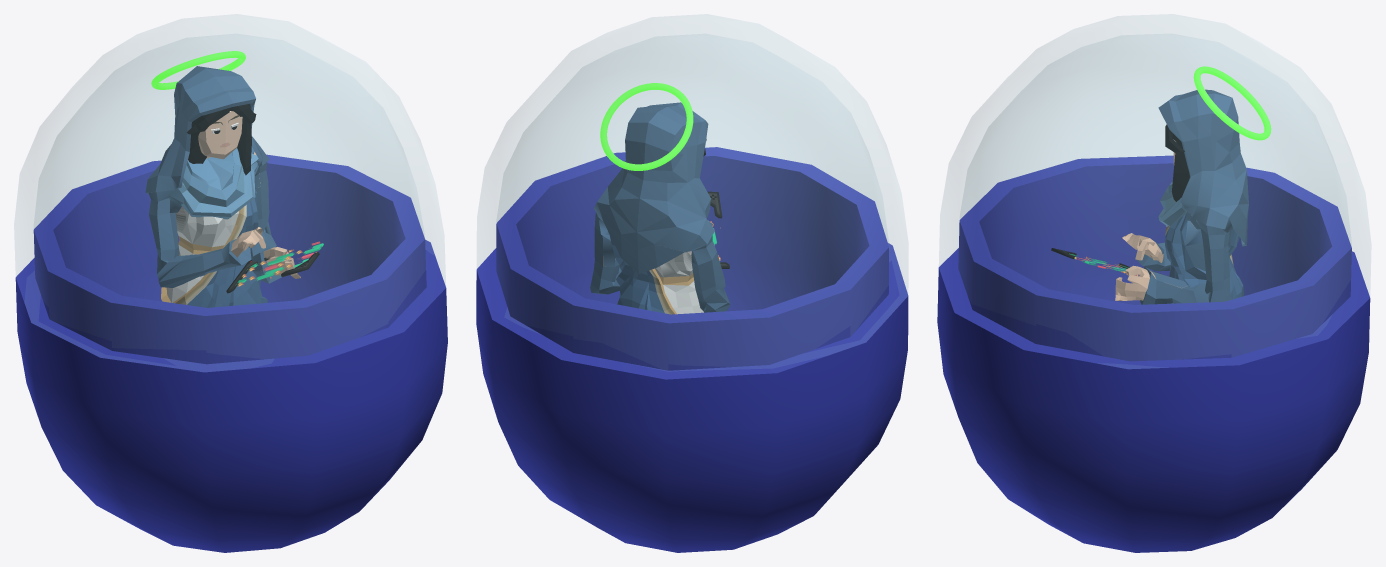
Rendered from ipadMaryToy.glb.
3 renders of one model, left to right at view 1: azimuth 30°, elevation 25°; view 2: azimuth 150°, elevation 25°; view 3: azimuth 270°, elevation 25°, orthographic.
Parts seen in each view (by area): view 1: CapsuleBaseA, CapsuleGlassA, RL80, Halo.001, Screen.001, Tablet.001; view 2: CapsuleBaseA, CapsuleGlassA, RL80, Halo.001; view 3: CapsuleBaseA, CapsuleGlassA, RL80, Halo.001.
Boxes of the visible parts, x1,y1,x2,y2 form: CapsuleBaseA: (15,154,447,552); CapsuleGlassA: (14,14,445,371); RL80: (145,66,300,307); Halo.001: (151,51,245,89); Screen.001: (235,241,323,286); Tablet.001: (226,252,319,293); CapsuleBaseA: (476,147,908,552); CapsuleGlassA: (477,14,907,371); RL80: (590,102,730,314); Halo.001: (600,83,693,170); CapsuleBaseA: (937,155,1370,552); CapsuleGlassA: (939,14,1370,368); RL80: (1115,89,1248,304); Halo.001: (1193,66,1271,140).
Bounding box in the file's own units: 0.3022 × 0.3848 × 0.3024.
Materials: 7 (3 with a texture image).
